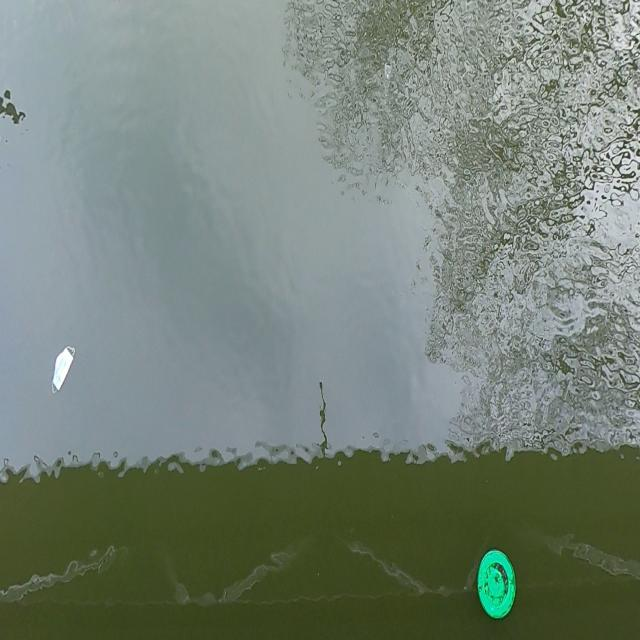Autre plastique: (478, 550, 516, 620)
Non plastique: (52, 346, 75, 393)
